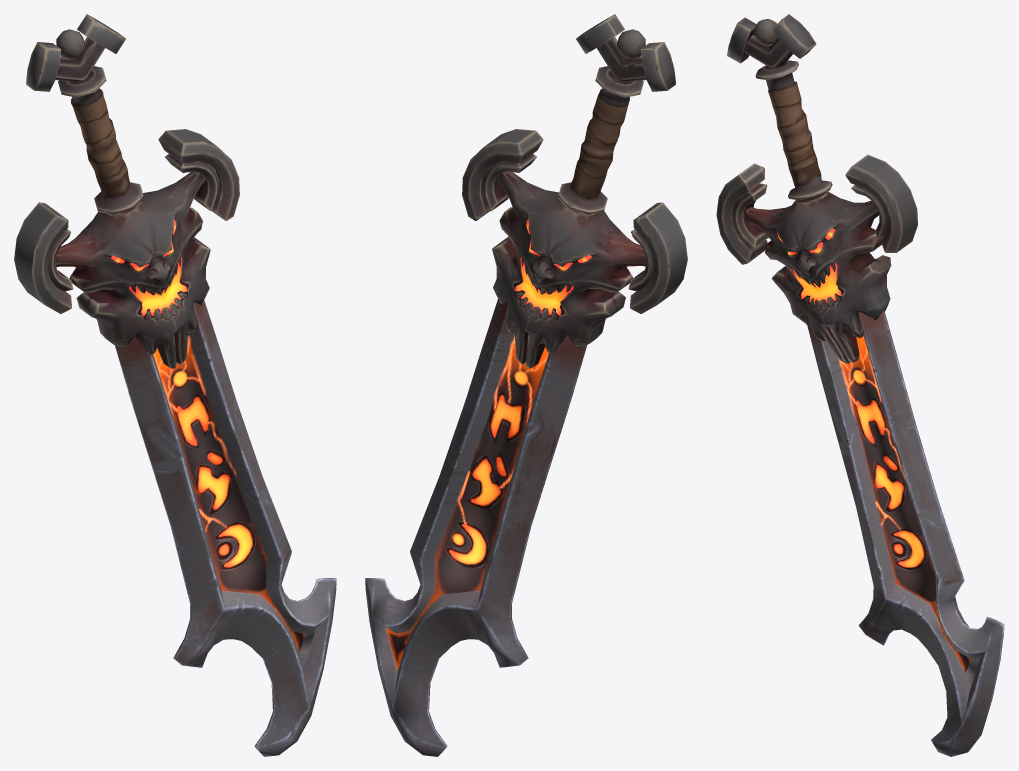
The model's file is dao.glb.
The picture shows the model from 3 angles, left to right: view 1: azimuth 30°, elevation 25°; view 2: azimuth 150°, elevation 25°; view 3: azimuth 330°, elevation 25°; orthographic projection. The views are drawn at different scales.
Parts seen in each view (by area): view 1: Object_2; view 2: Object_2; view 3: Object_2.
Boxes of the visible parts, x1,y1,x2,y2 form: Object_2: [14, 14, 336, 756]; Object_2: [365, 14, 687, 756]; Object_2: [716, 14, 1004, 756].
Bounding box in the file's own units: 7.06 × 16.85 × 2.03.
Materials: 1 (1 with a texture image).
